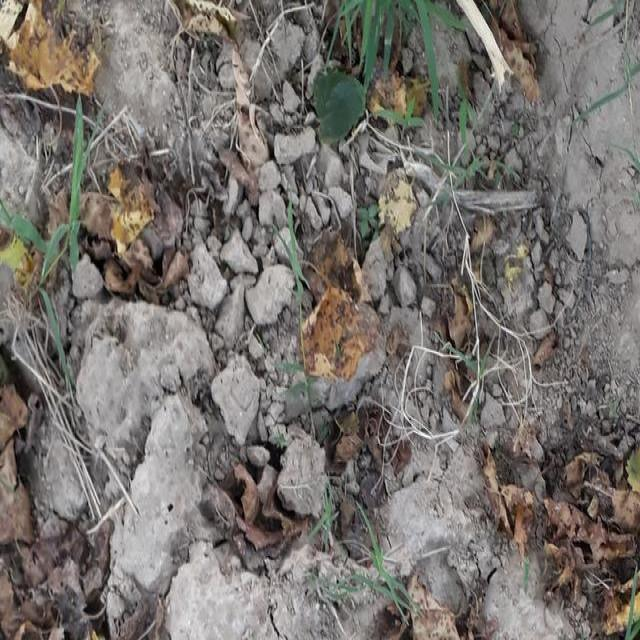weed: (288, 459, 421, 640), (329, 0, 480, 91), (23, 100, 100, 272), (376, 92, 513, 184), (31, 283, 81, 409), (268, 199, 322, 296), (627, 556, 640, 640)
